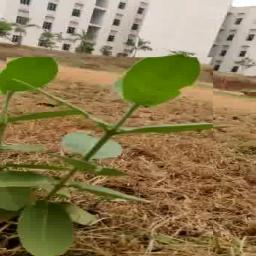CALOTROPIS: (6, 57, 214, 256)
